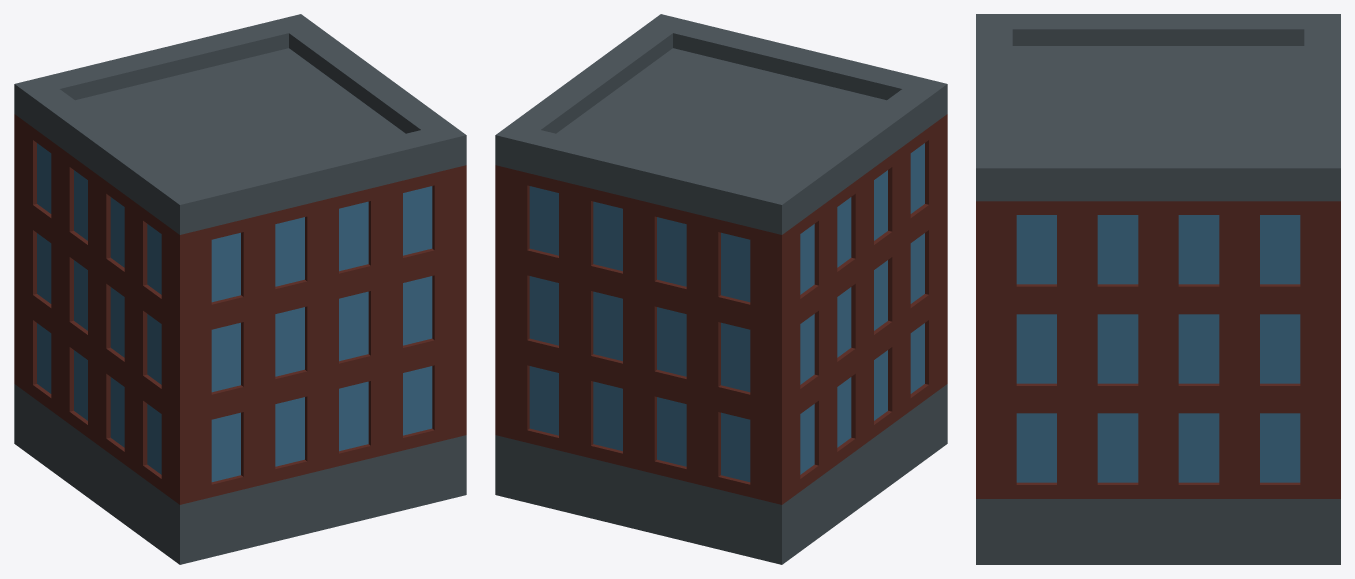
The model's file is Build_01_Low.fbx.
3 views of the same model, side by side, from view 1: azimuth 30°, elevation 25°; view 2: azimuth 150°, elevation 25°; view 3: azimuth 270°, elevation 25° (orthographic). The views are drawn at different scales.
Visible parts, largest first — view 1: Build_01_Low; view 2: Build_01_Low; view 3: Build_01_Low.
Part boxes in pixels (left/top/right/bottom): Build_01_Low: left=14, top=14, right=466, bottom=564; Build_01_Low: left=495, top=14, right=947, bottom=564; Build_01_Low: left=976, top=14, right=1340, bottom=564.
Size of the model in its own units: 10 by 12 by 10.
